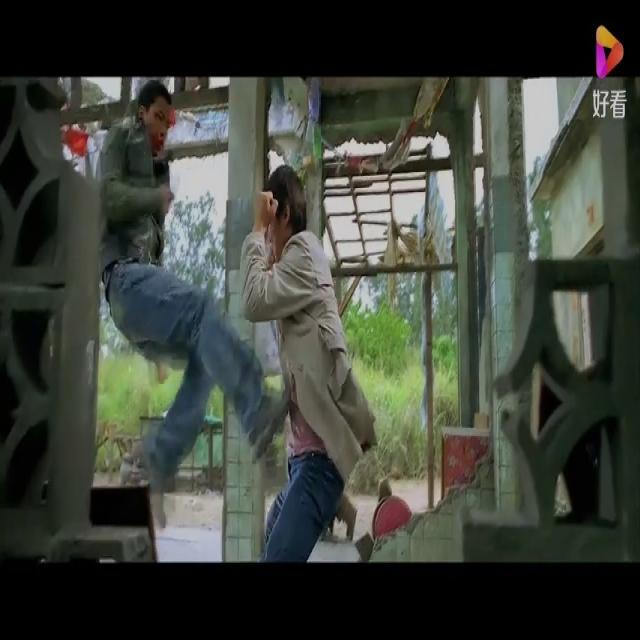fight: (91, 78, 379, 566)
